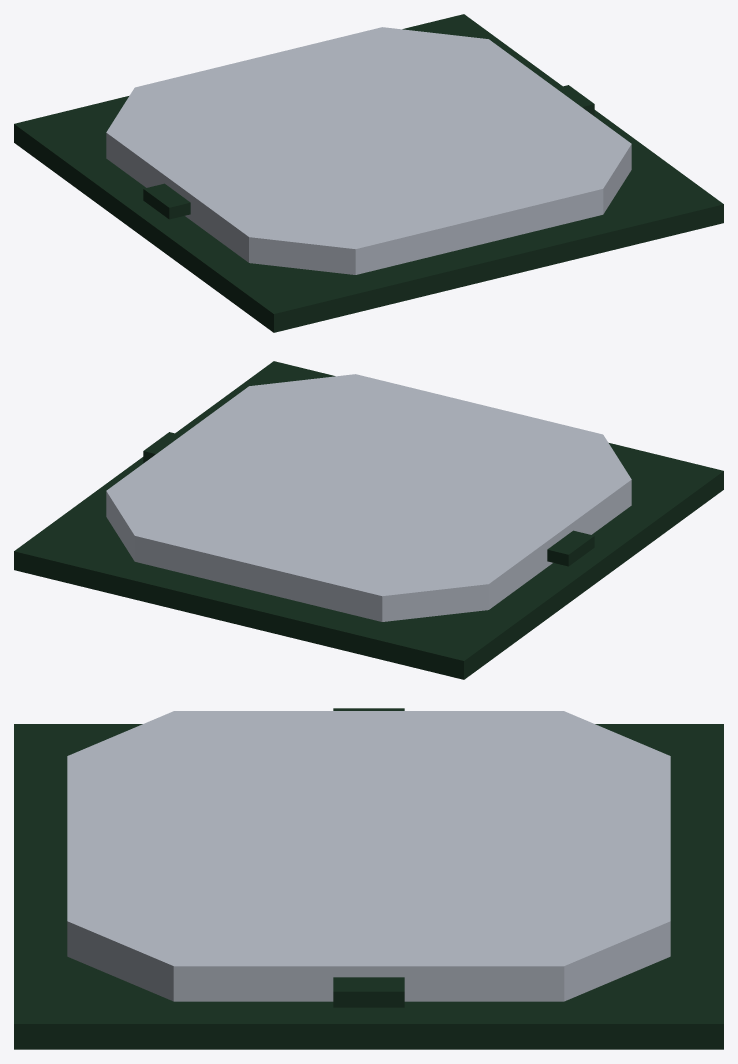
The model's file is cpu-chip.glb.
The picture shows the model from 3 angles, top to bottom: view 1: azimuth 30°, elevation 25°; view 2: azimuth 150°, elevation 25°; view 3: azimuth 270°, elevation 25°; orthographic projection. The views are drawn at different scales.
Visible parts, largest first — view 1: heat_spreader, pcb, lid_notches; view 2: heat_spreader, pcb, lid_notches; view 3: heat_spreader, pcb, lid_notches.
Part boxes in pixels (box(x1,y1,x2,y2)): heat_spreader: box(106, 27, 631, 274); pcb: box(14, 14, 723, 332); lid_notches: box(143, 85, 594, 219); heat_spreader: box(106, 374, 631, 621); pcb: box(14, 361, 723, 679); lid_notches: box(143, 432, 594, 566); heat_spreader: box(67, 711, 670, 1001); pcb: box(14, 724, 723, 1049); lid_notches: box(333, 708, 404, 1007).
Size of the model in its own units: 40 by 4.2 by 40.
